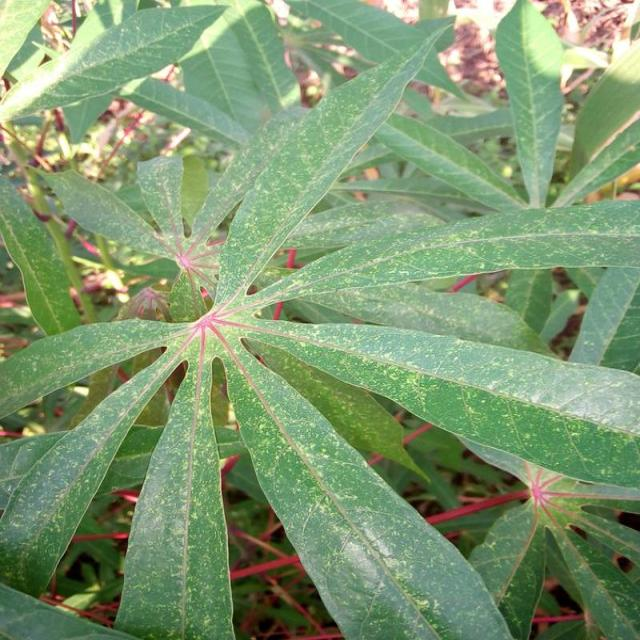cassava leaf: (2, 4, 639, 637)
